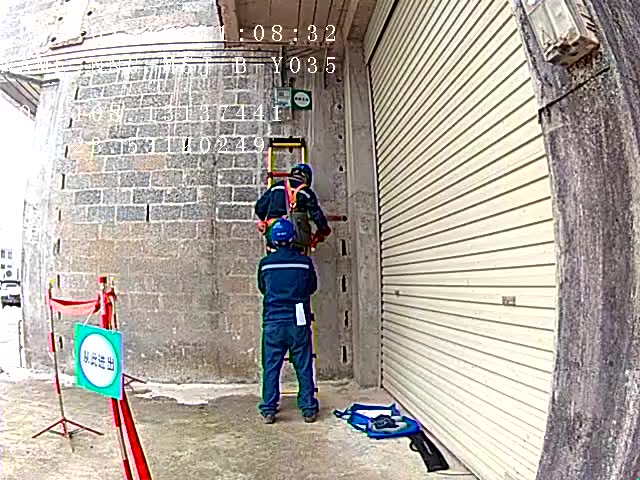halt: (271, 220, 300, 251), (292, 166, 317, 191)
